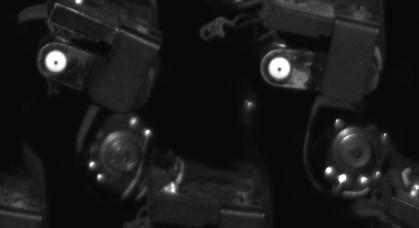fiber: (263, 53, 298, 86), (41, 47, 73, 76)
